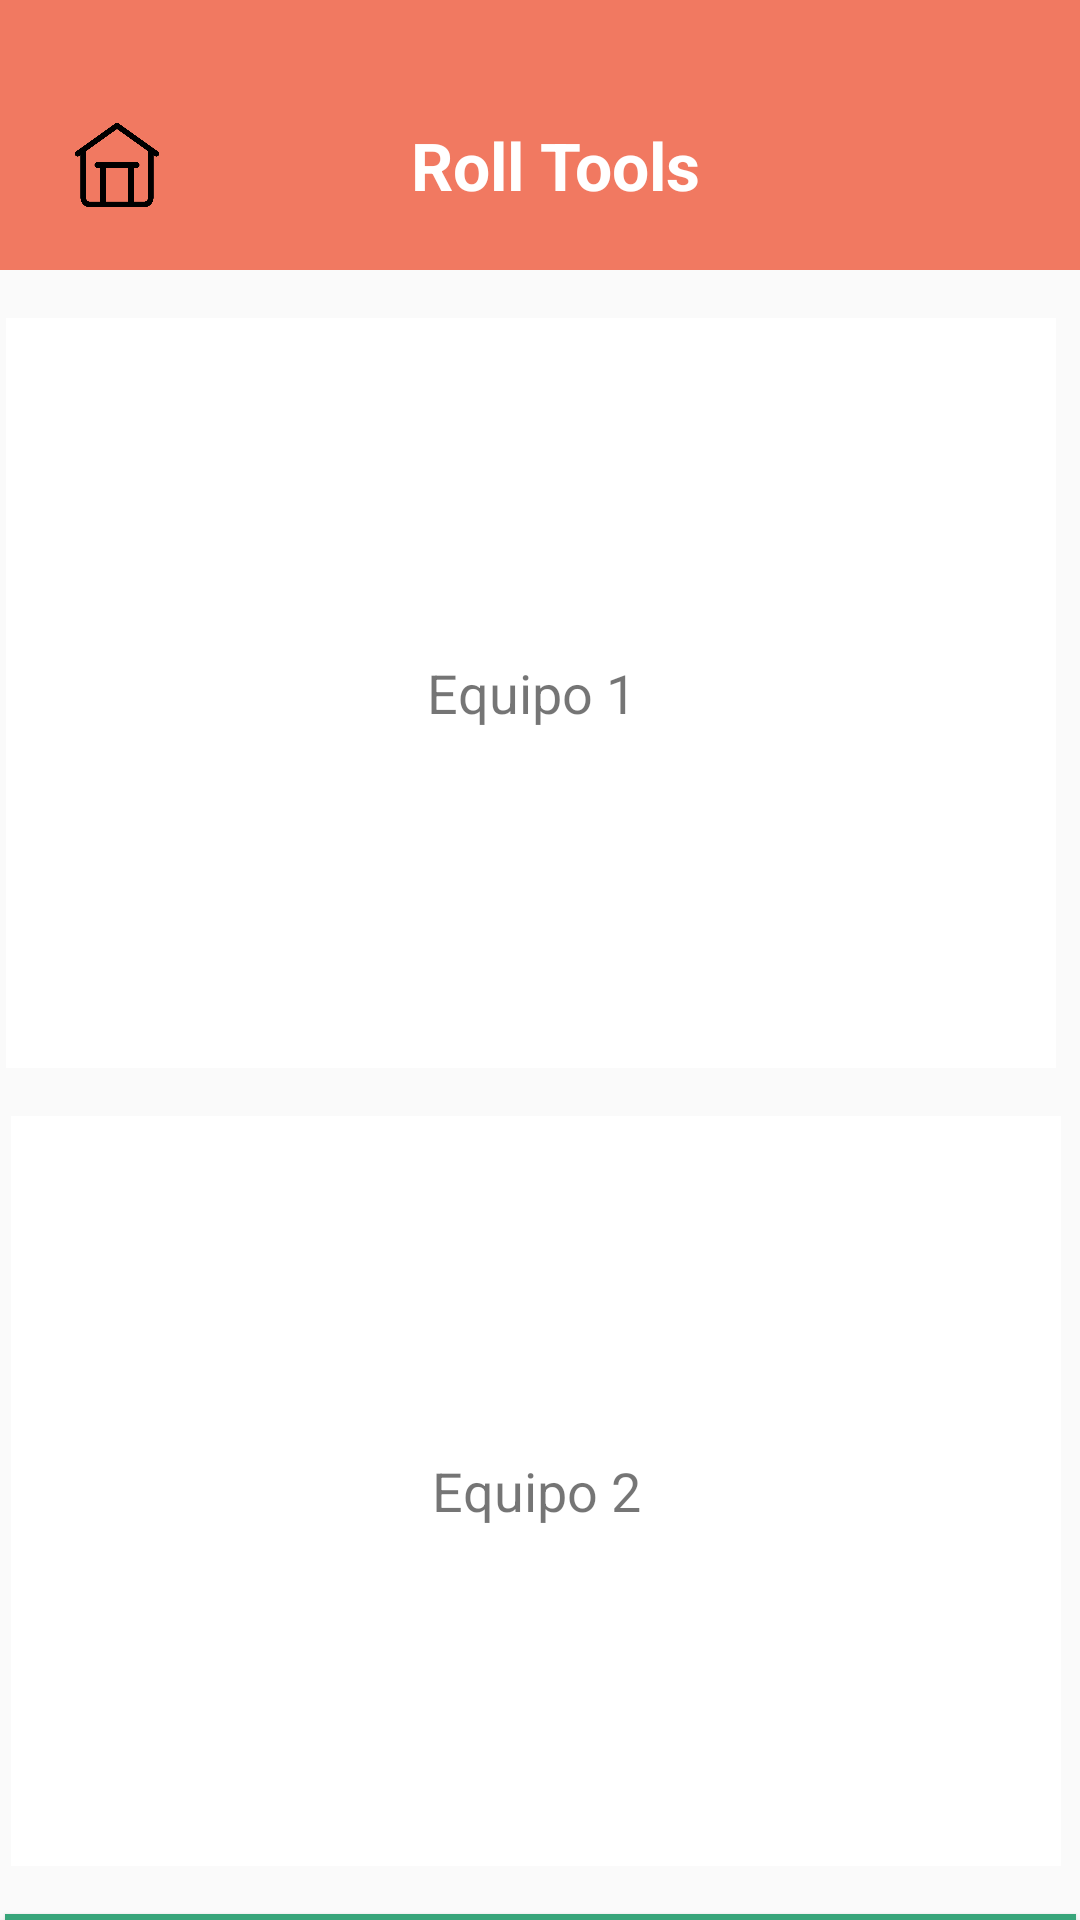

Named icons in this screenshot (1080×1920) and their bounding boxes, [left=x1, top=y1, right=x2, bottom=y2]:
casa: [left=75, top=123, right=159, bottom=207]
